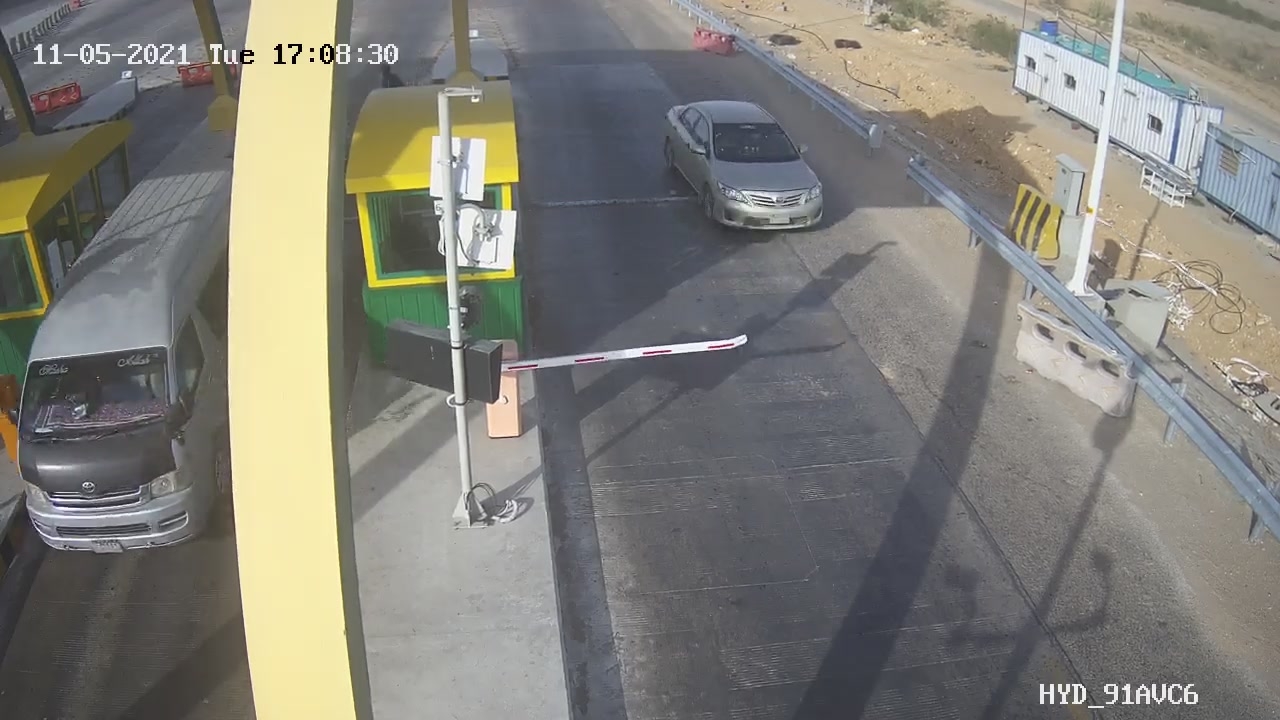F1: (644, 87, 847, 253)
